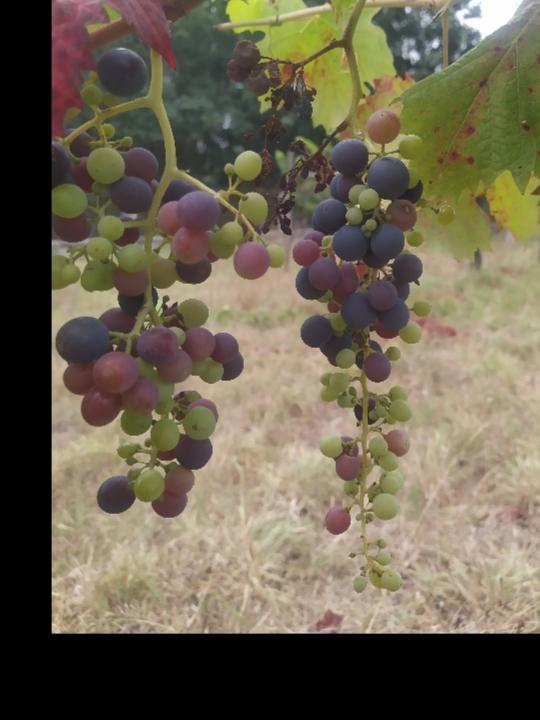grape: (52, 45, 288, 522), (294, 110, 453, 594), (225, 40, 334, 239)
